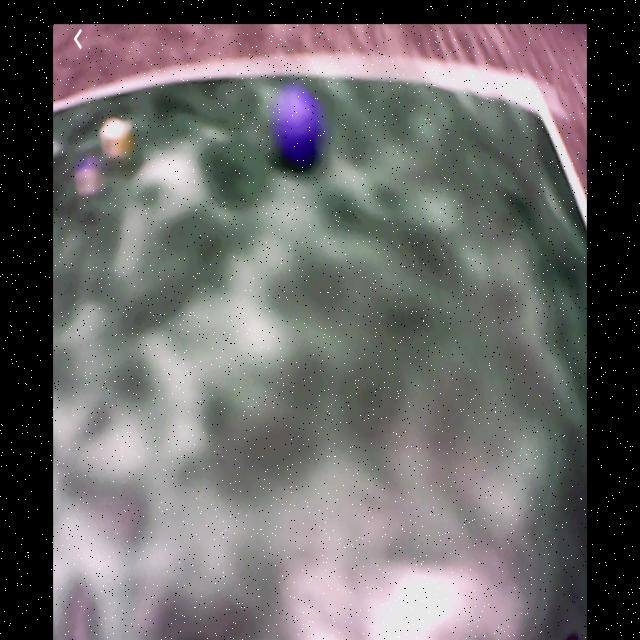ball: (275, 87, 319, 164)
